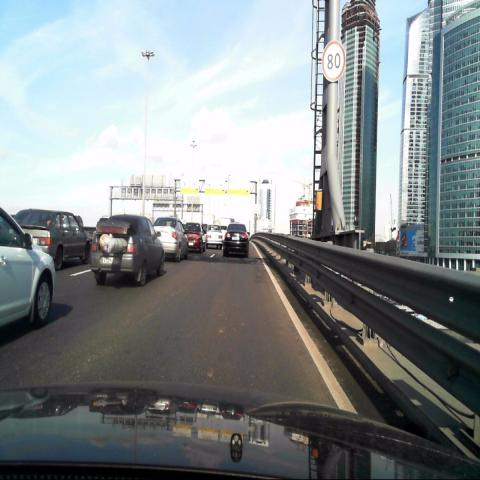3_24: (320, 40, 346, 83)
